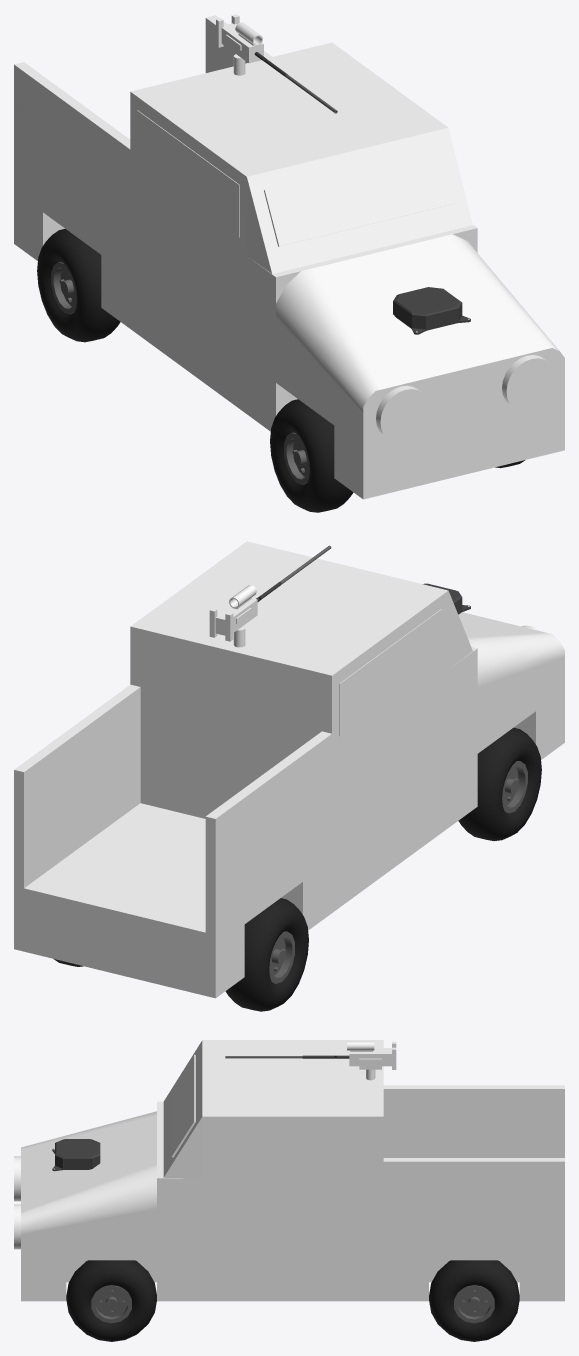
File: Jihad Scout_export.obj
3 views of the same model, one above another, from view 1: azimuth 30°, elevation 25°; view 2: azimuth 150°, elevation 25°; view 3: azimuth 270°, elevation 25° (orthographic). The views are drawn at different scales.
Parts seen in each view (by area): view 1: Mesh_0, Mesh_6, Mesh_2, Mesh_5, Mesh_7, Mesh_14, Mesh_15, Mesh_1, TireNormal_21, TireNormal_25, Mesh_12, Mesh_13 (+8 smaller); view 2: Mesh_5, Mesh_6, Mesh_2, Mesh_0, Mesh_15, Mesh_4, TireNormal_21, TireNormal_25, Mesh_8, Mesh_11, Mesh_12, Mesh_9 (+4 smaller); view 3: Mesh_5, Mesh_2, Mesh_6, Mesh_0, Mesh_16, TireNormal_33, TireNormal_29, Mesh_7, Mesh_10, Mesh_11, Mesh_13, Mesh_14 (+6 smaller).
Part boxes in pixels (x1,y1,x2,y2): Mesh_0: (276, 234, 564, 446); Mesh_6: (130, 42, 447, 255); Mesh_2: (130, 171, 477, 431); Mesh_5: (14, 15, 272, 275); Mesh_7: (247, 127, 472, 273); Mesh_14: (264, 147, 455, 246); Mesh_15: (137, 110, 239, 237); Mesh_1: (413, 410, 514, 486); TireNormal_21: (270, 399, 353, 512); TireNormal_25: (37, 228, 120, 342); Mesh_12: (334, 426, 413, 499); Mesh_13: (514, 397, 564, 462); Mesh_5: (14, 684, 331, 945); Mesh_6: (130, 541, 448, 754); Mesh_2: (140, 647, 477, 912); Mesh_0: (458, 612, 564, 753); Mesh_15: (339, 609, 441, 736); Mesh_4: (64, 909, 165, 985); TireNormal_21: (458, 727, 541, 840); TireNormal_25: (225, 898, 308, 1011); Mesh_8: (165, 924, 244, 998); Mesh_11: (14, 896, 64, 961); Mesh_12: (514, 690, 564, 759); Mesh_9: (281, 861, 331, 930); Mesh_5: (383, 1085, 564, 1260); Mesh_2: (157, 1101, 383, 1301); Mesh_6: (202, 1040, 383, 1178); Mesh_0: (21, 1111, 156, 1260); Mesh_16: (213, 1127, 372, 1168); TireNormal_33: (66, 1260, 156, 1341); TireNormal_29: (429, 1260, 519, 1341); Mesh_7: (163, 1040, 202, 1178); Mesh_10: (383, 1260, 428, 1301); Mesh_11: (519, 1260, 564, 1301); Mesh_13: (21, 1260, 66, 1301); Mesh_14: (171, 1054, 195, 1157).
Bounding box in the file's own units: 1.13 × 1.6 × 3.04.
Materials: 2 (2 with a texture image).
